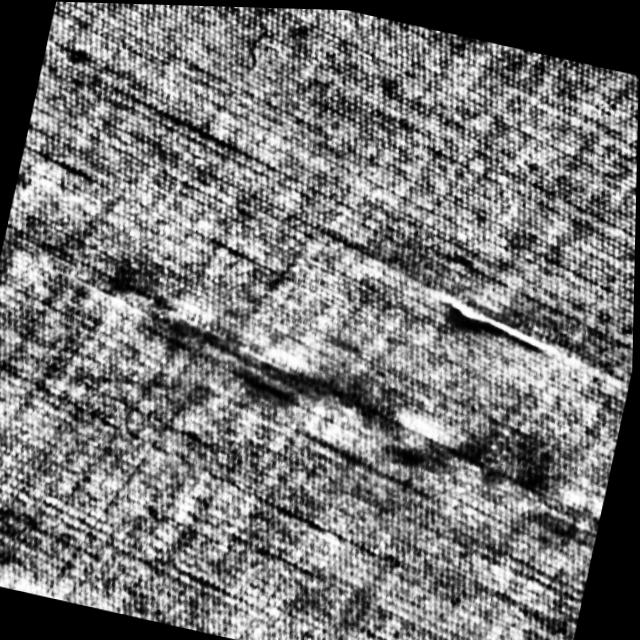Stitch: (0, 224, 636, 554), (421, 285, 573, 361)
